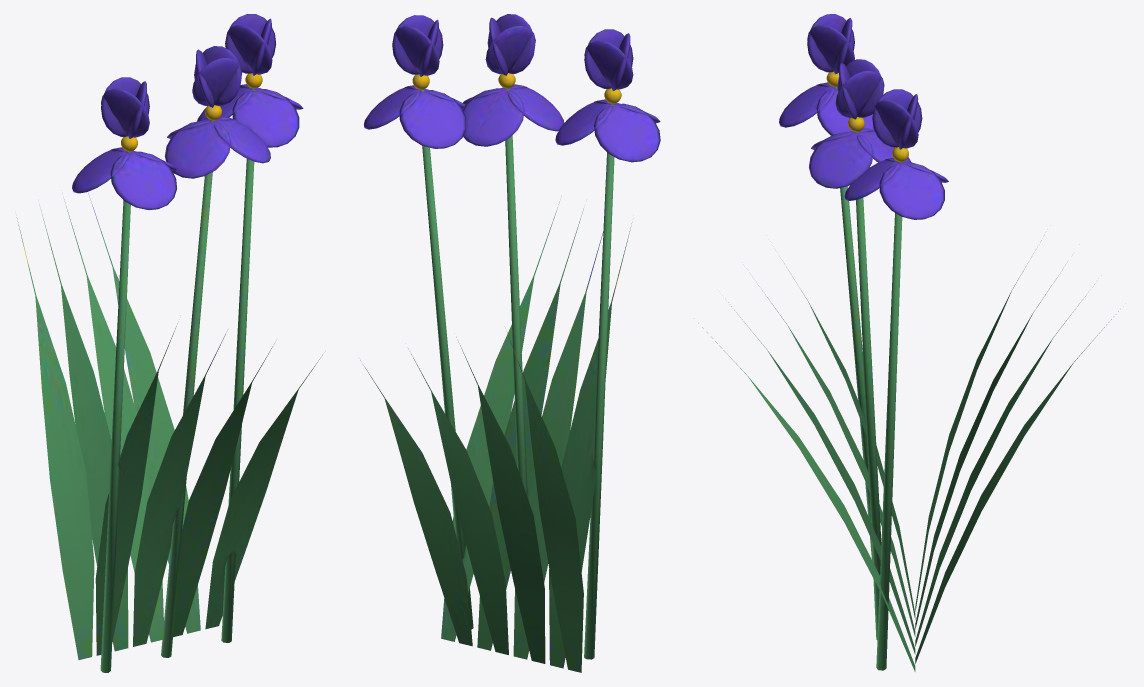
Rendered from crop_iris.glb.
3 renders of one model, left to right at view 1: azimuth 30°, elevation 25°; view 2: azimuth 150°, elevation 25°; view 3: azimuth 270°, elevation 25°, orthographic. The views are drawn at different scales.
Visible parts, largest first — view 1: crop_iris, fruit; view 2: crop_iris, fruit; view 3: crop_iris, fruit.
Boxes of the visible parts, bbox=[...] form: crop_iris: bbox=[16, 73, 322, 672]; fruit: bbox=[72, 14, 303, 209]; crop_iris: bbox=[360, 73, 632, 672]; fruit: bbox=[364, 14, 660, 162]; crop_iris: bbox=[698, 71, 1118, 671]; fruit: bbox=[779, 14, 948, 219].
Size of the model in its own units: 0.1684 by 0.3829 by 0.2585.
Materials: 1 (1 with a texture image).
